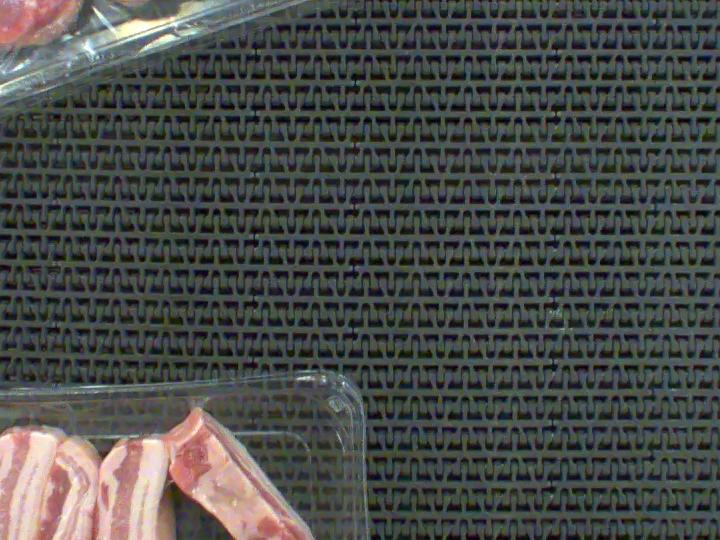loose-meat: (176, 405, 346, 540)
